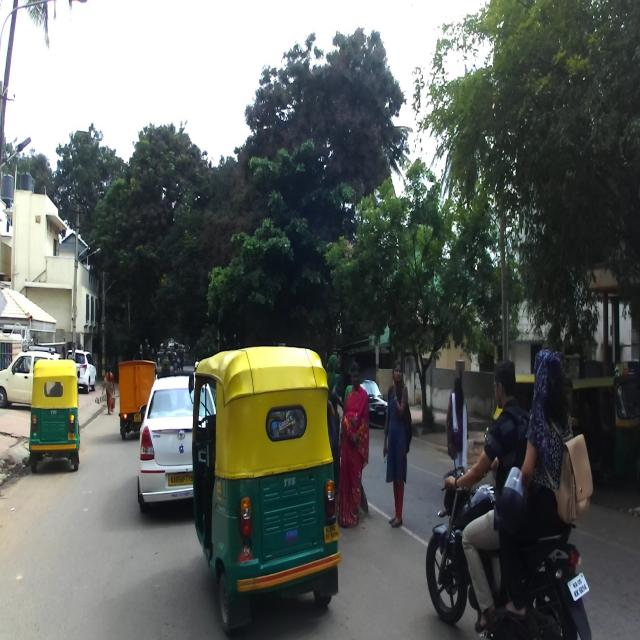autorickshaw: (188, 342, 348, 628), (493, 371, 585, 475), (571, 375, 639, 489), (28, 359, 84, 469)
car: (136, 372, 221, 509), (0, 339, 60, 406), (65, 351, 98, 396)
motorcycle: (426, 430, 593, 637)
